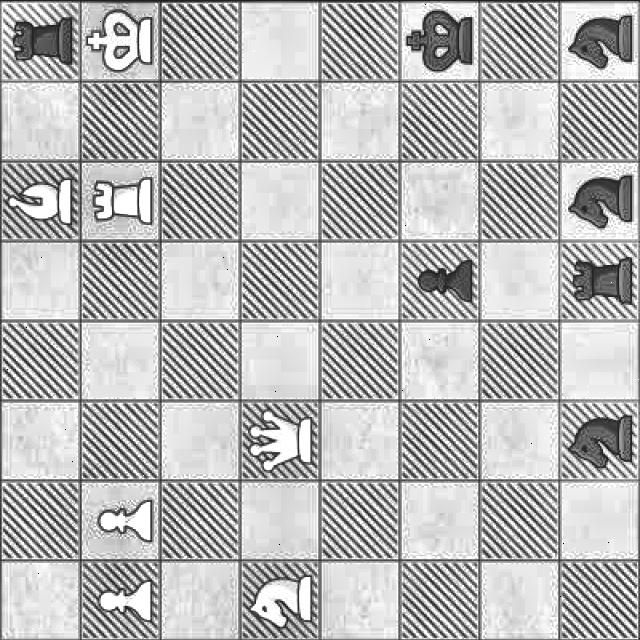Black Knight: (561, 167, 640, 235), (561, 8, 640, 75), (564, 404, 634, 478)
black king: (404, 5, 478, 80)
black pawn: (406, 252, 478, 306)
black rook: (7, 8, 79, 70), (568, 250, 640, 310)
white bishop: (4, 170, 76, 228)
white king: (84, 4, 156, 77)
white pawn: (89, 488, 157, 552), (91, 576, 156, 626)
white queen: (247, 404, 319, 472)
white rook: (91, 170, 156, 232)
whiteknight: (245, 566, 315, 630)
